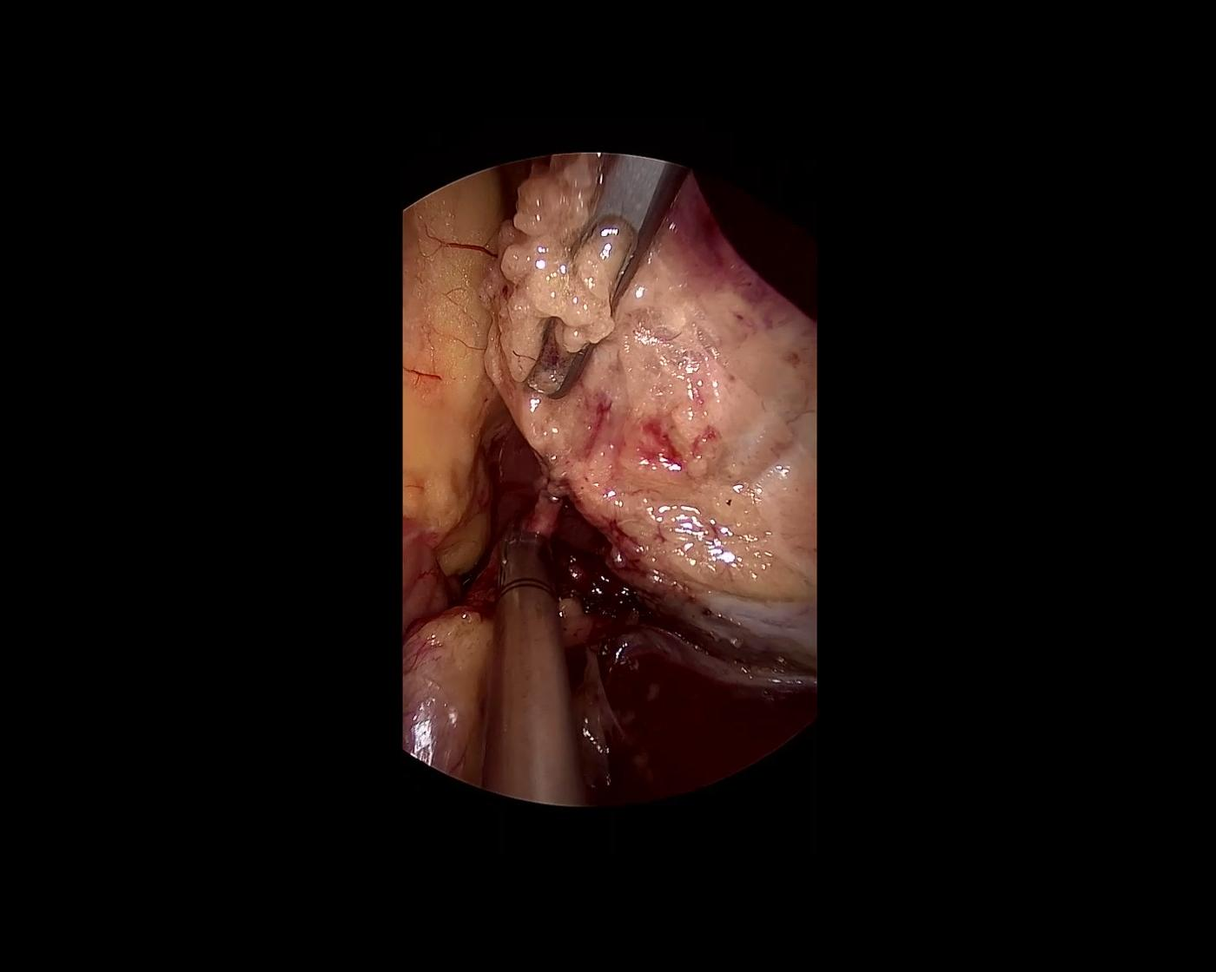Forceps: (497, 135, 688, 413)
Gallbladder: (484, 151, 814, 671)
Liver: (588, 623, 822, 803)
